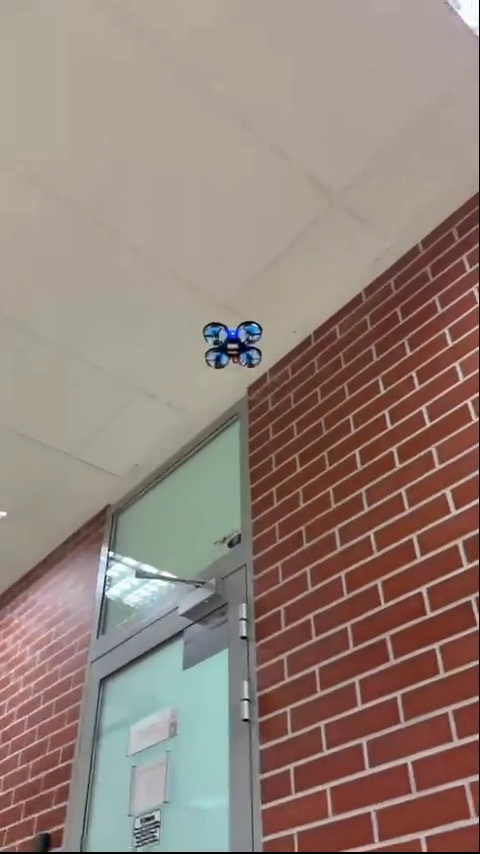drone: (200, 321, 265, 372)
